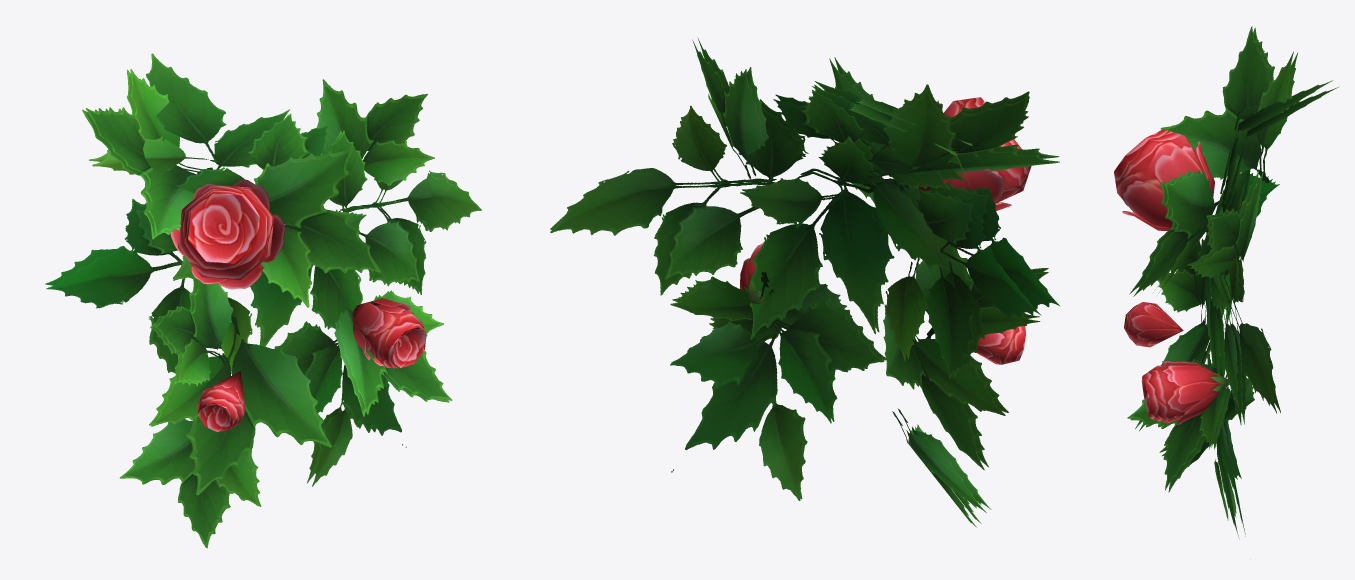
The model's file is SE_Rose_17.fbx.
3 views of the same model, side by side, from view 1: azimuth 30°, elevation 25°; view 2: azimuth 150°, elevation 25°; view 3: azimuth 270°, elevation 25° (orthographic). The views are drawn at different scales.
Visible parts, largest first — view 1: SE_Rose_17; view 2: SE_Rose_17; view 3: SE_Rose_17.
Boxes of the visible parts, box(x1,y1,x2,y2) form: SE_Rose_17: box(45, 53, 481, 548); SE_Rose_17: box(550, 37, 1059, 527); SE_Rose_17: box(1114, 26, 1338, 538).
Size of the model in its own units: 2.96 by 2.85 by 1.27.
